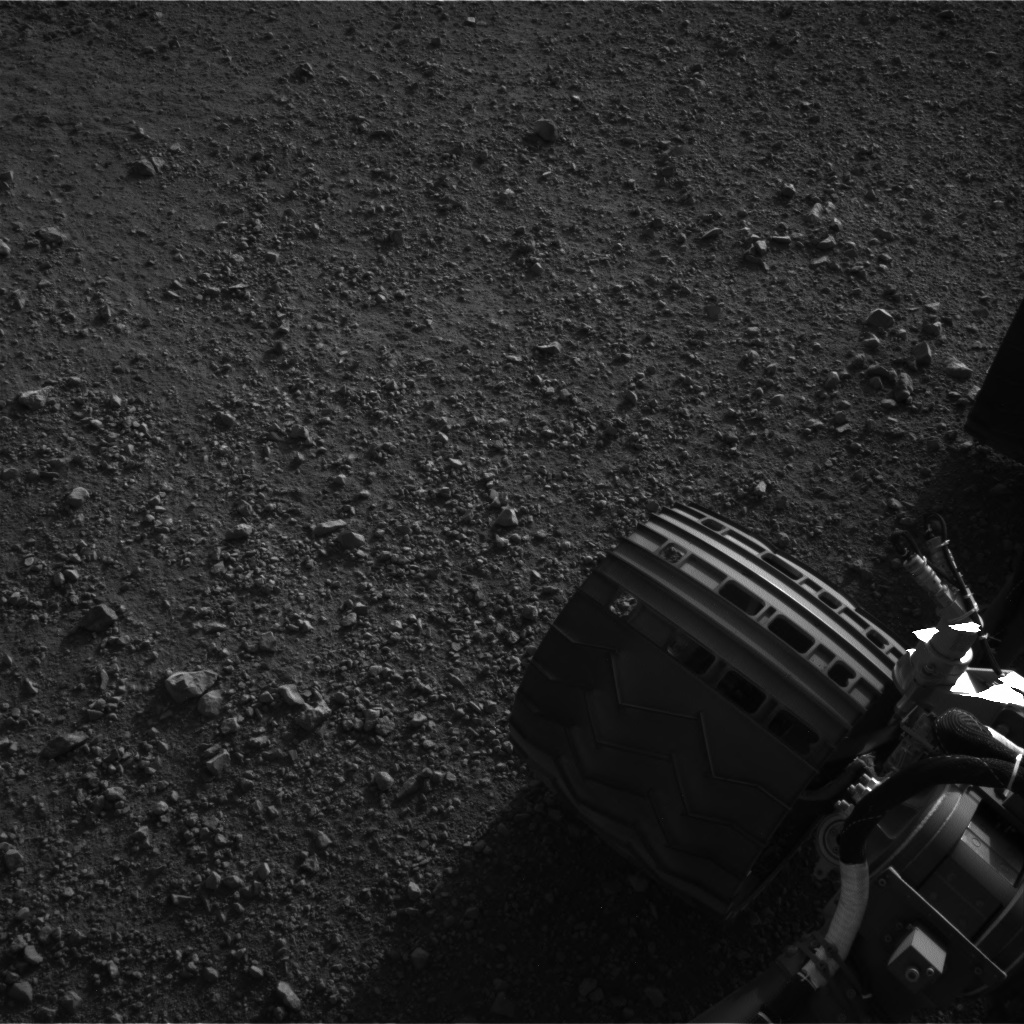soil: (5, 4, 942, 1017)
